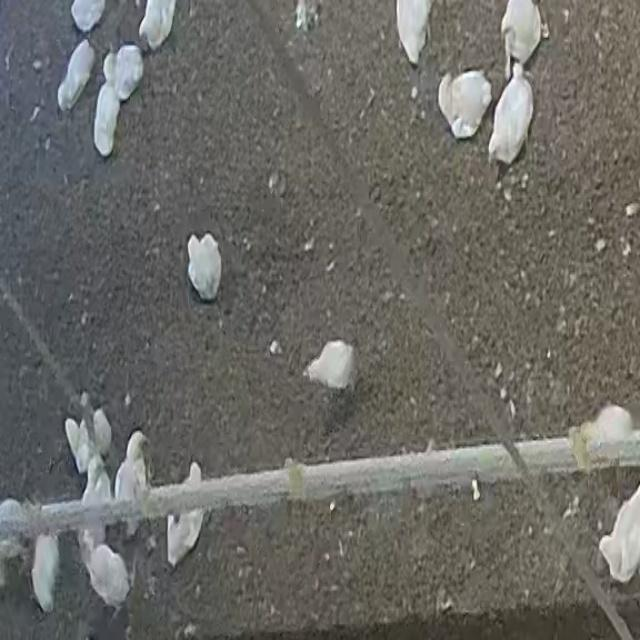chicken: (599, 474, 640, 584), (166, 464, 207, 571), (490, 65, 531, 170), (573, 402, 635, 468), (438, 69, 493, 140), (113, 434, 148, 539), (84, 541, 131, 610), (500, 0, 543, 73), (56, 38, 97, 111), (297, 338, 354, 385), (30, 530, 60, 614), (186, 232, 222, 301), (104, 44, 144, 100), (94, 81, 121, 157), (137, 0, 176, 47)
